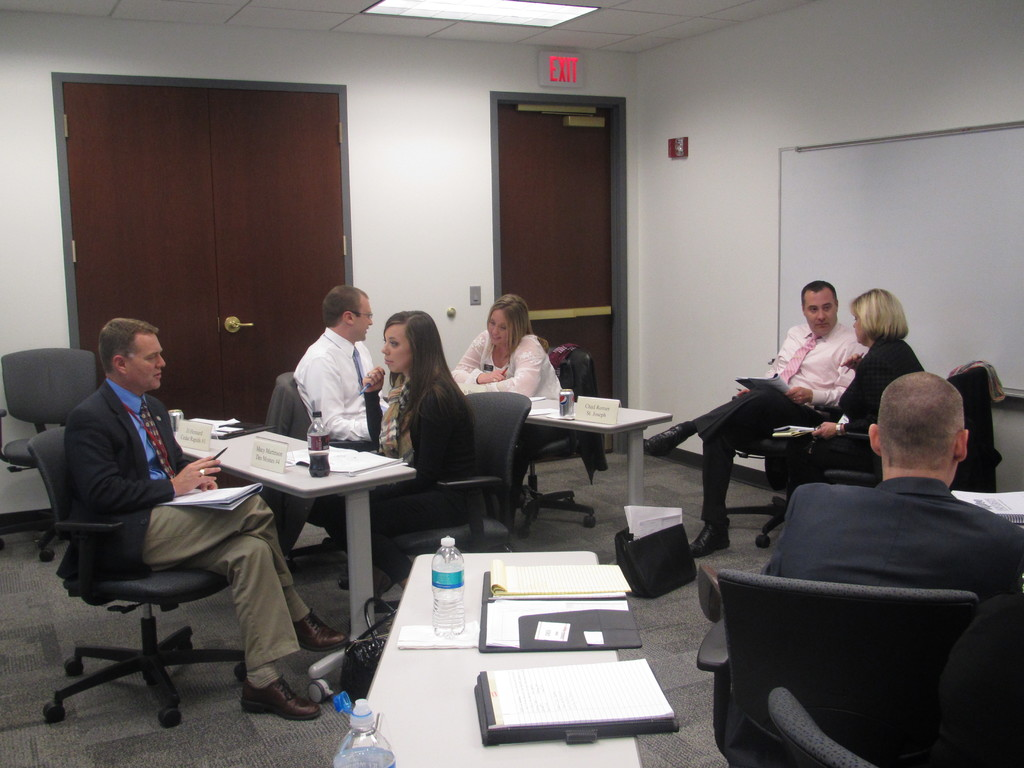Person: (55, 280, 1023, 747)
